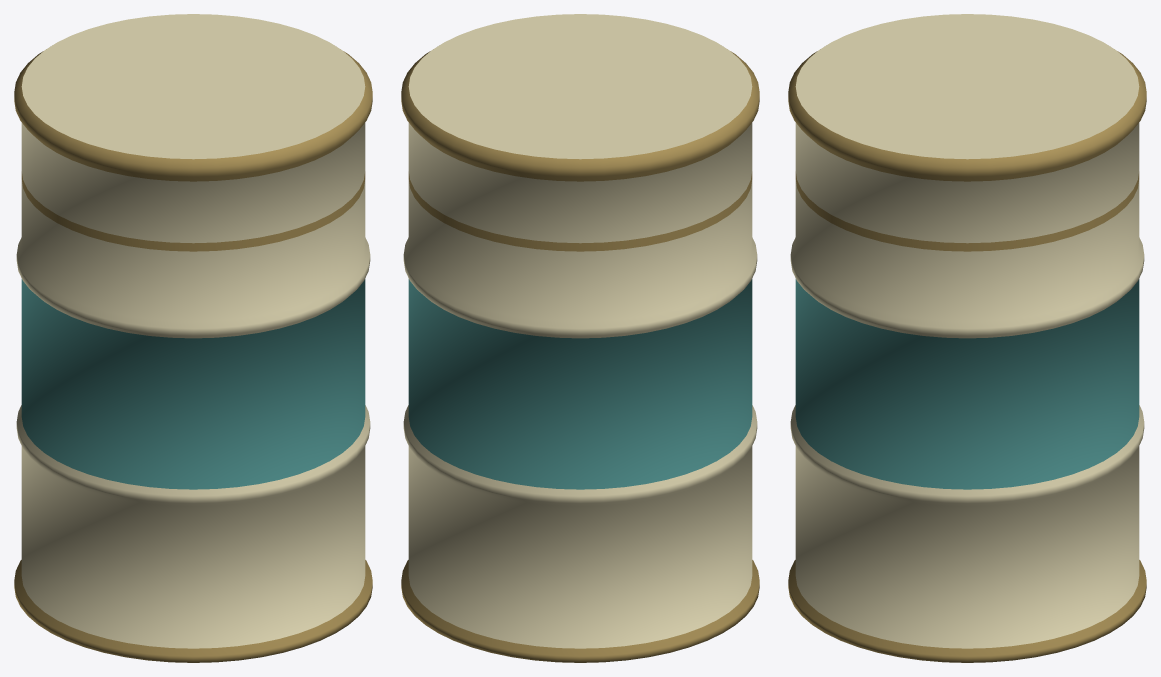
Rendered from training_barrel.glb.
3 renders of one model, left to right at view 1: azimuth 30°, elevation 25°; view 2: azimuth 150°, elevation 25°; view 3: azimuth 270°, elevation 25°, orthographic.
Parts seen in each view (by area): view 1: Training_Barrel; view 2: Training_Barrel; view 3: Training_Barrel.
Part boxes in pixels (x1,y1,x2,y2): Training_Barrel: (14, 14, 372, 662); Training_Barrel: (401, 14, 759, 662); Training_Barrel: (788, 14, 1146, 662).
Bounding box in the file's own units: 0.58 × 0.9 × 0.58.
